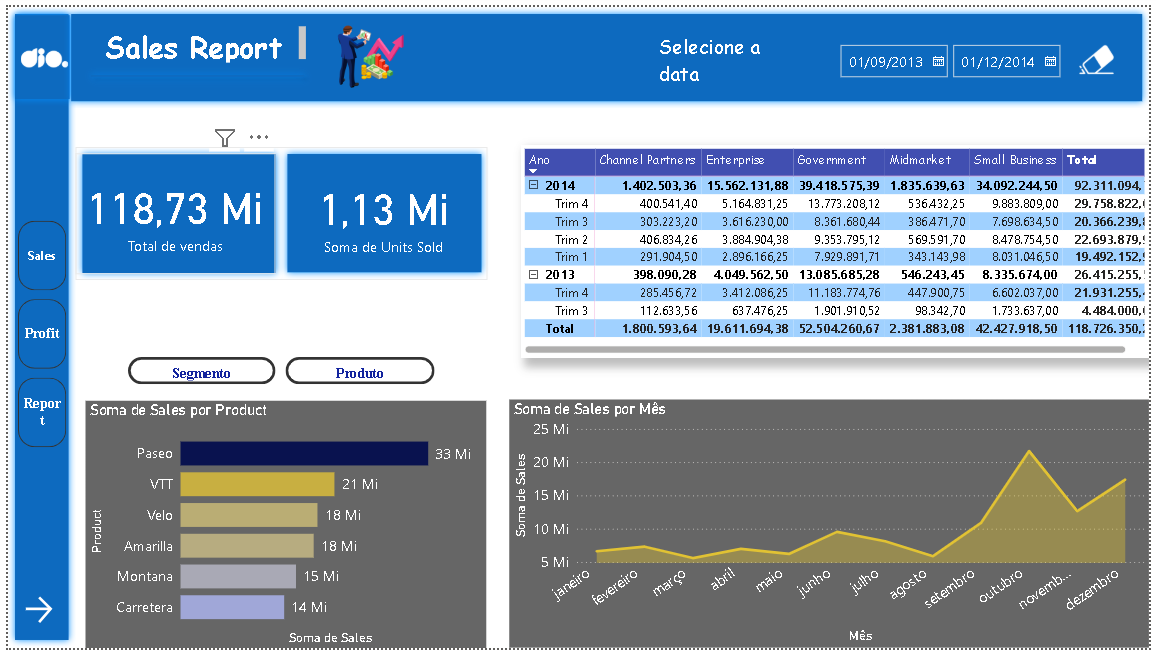

The dashboard page shown, as its layout file describes it:
{"tool":"powerbi","page":{"name":"Sales","canvas":[1280,720],"ordinal":0},"visuals":[{"type":"textbox","box":[103.4,16.3,235.5,50.3],"z":0,"group":"g3"},{"type":"slicer","fields":{"Values":["financials.Date"]},"box":[920.8,33.4,342.1,54.8],"z":0,"group":"g2"},{"type":"shape","box":[76,157.5,232.5,149.3],"z":0,"group":"g1"},{"type":"shape","box":[0,0,75.7,718],"z":1000},{"type":"textbox","box":[724.9,24.3,165.5,72.8],"z":1000,"group":"g2"},{"type":"shape","box":[84.3,59.5,257.1,34.2],"z":1000,"group":"g3"},{"type":"clusteredBarChart","fields":{"Y":["Sum(financials. Sales)"],"Category":["financials.Product"]},"box":[86.9,441.1,449.8,278.6],"z":1500,"group":"g4"},{"type":"shape","box":[0,1.8,76.9,109.8],"z":2000},{"type":"actionButton","box":[1180,32.9,54.5,45.1],"z":2000,"group":"g2"},{"type":"shape","box":[305.9,157.5,233.2,148.4],"z":2000,"group":"g1"},{"type":"image","title":"logo dio","box":[9.2,23.8,62.2,65.9],"z":3000},{"type":"image","title":"clean","box":[1194.5,35.3,52.8,48.5],"z":3000,"group":"g2"},{"type":"actionButton","title":"B-Segmento","box":[135.2,392.6,165.4,30.6],"z":3000,"group":"g4"},{"type":"actionButton","title":"B-Produto","box":[311.8,392.6,167.3,30.6],"z":3500,"group":"g4"},{"type":"shape","box":[63.1,0,1217.2,113.6],"z":4000},{"type":"group","id":"g1","title":"Cards","box":[75.7,157.5,463.4,149.9],"z":5000},{"type":"card","fields":{"Values":["Sum(financials.Units Sold)"]},"box":[310.4,166.6,224.1,134.8],"z":5000,"group":"g1"},{"type":"areaChart","fields":{"Category":["financials.Date.Variation.Hierarquia de datas.Ano","financials.Date.Variation.Hierarquia de datas.Mês"],"Y":["Sum(financials. Sales)"]},"box":[562.2,440.9,717.8,278.3],"z":6000},{"type":"group","id":"g2","title":"filtro por data","box":[724.9,24.3,538,72.8],"z":7000},{"type":"group","id":"g3","title":"title report","box":[84.3,16.3,257.1,77.4],"z":8000},{"type":"card","fields":{"Values":["Sum(financials. Sales)"]},"box":[75.7,164.8,223.9,135.8],"z":9000,"group":"g1"},{"type":"actionButton","box":[14.2,655.6,49.8,39.8],"z":9000},{"type":"image","box":[349.8,0,136.2,111.8],"z":10000},{"type":"group","id":"g4","title":"Grupo 1","box":[86.9,392.6,451.5,326.7],"z":11000},{"type":"pivotTable","fields":{"Values":["Sum(financials. Sales)"],"Rows":["financials.Date.Variation.Hierarquia de datas.Ano","financials.Date.Variation.Hierarquia de datas.Trimestre"],"Columns":["financials.Segment"]},"box":[575.1,154.1,704.9,239.7],"z":12000},{"type":"pageNavigator","box":[10.6,239.3,54.5,255.9],"z":13000}]}

Visuals, with their boxes in screenshot pixels (x1, y1, x2, y2), scaled from the page's 1280x720 canvas onto the 1156x656 screenshot:
textbox: [93, 15, 306, 61]
slicer - financials.Date: [832, 30, 1141, 80]
shape: [69, 144, 279, 280]
shape: [0, 0, 68, 654]
textbox: [655, 22, 804, 88]
shape: [76, 54, 308, 85]
clusteredBarChart - Sum(financials. Sales) x financials.Product: [78, 402, 485, 655]
shape: [0, 2, 69, 102]
actionButton: [1066, 30, 1115, 71]
shape: [276, 144, 487, 279]
"logo dio" image: [8, 22, 64, 82]
"clean" image: [1079, 32, 1126, 76]
"B-Segmento" actionButton: [122, 358, 271, 386]
"B-Produto" actionButton: [282, 358, 433, 386]
shape: [57, 0, 1155, 104]
"Cards" group: [68, 144, 487, 280]
card - Sum(financials.Units Sold): [280, 152, 483, 275]
areaChart - financials.Date.Variation.Hierarquia de datas.Ano x financials.Date.Variation.Hierarquia de datas.Mês: [508, 402, 1155, 655]
"filtro por data" group: [655, 22, 1141, 88]
"title report" group: [76, 15, 308, 85]
card - Sum(financials. Sales): [68, 150, 271, 274]
actionButton: [13, 597, 58, 634]
image: [316, 0, 439, 102]
"Grupo 1" group: [78, 358, 486, 655]
pivotTable - Sum(financials. Sales) x financials.Date.Variation.Hierarquia de datas.Ano: [519, 140, 1155, 359]
pageNavigator: [10, 218, 59, 451]
